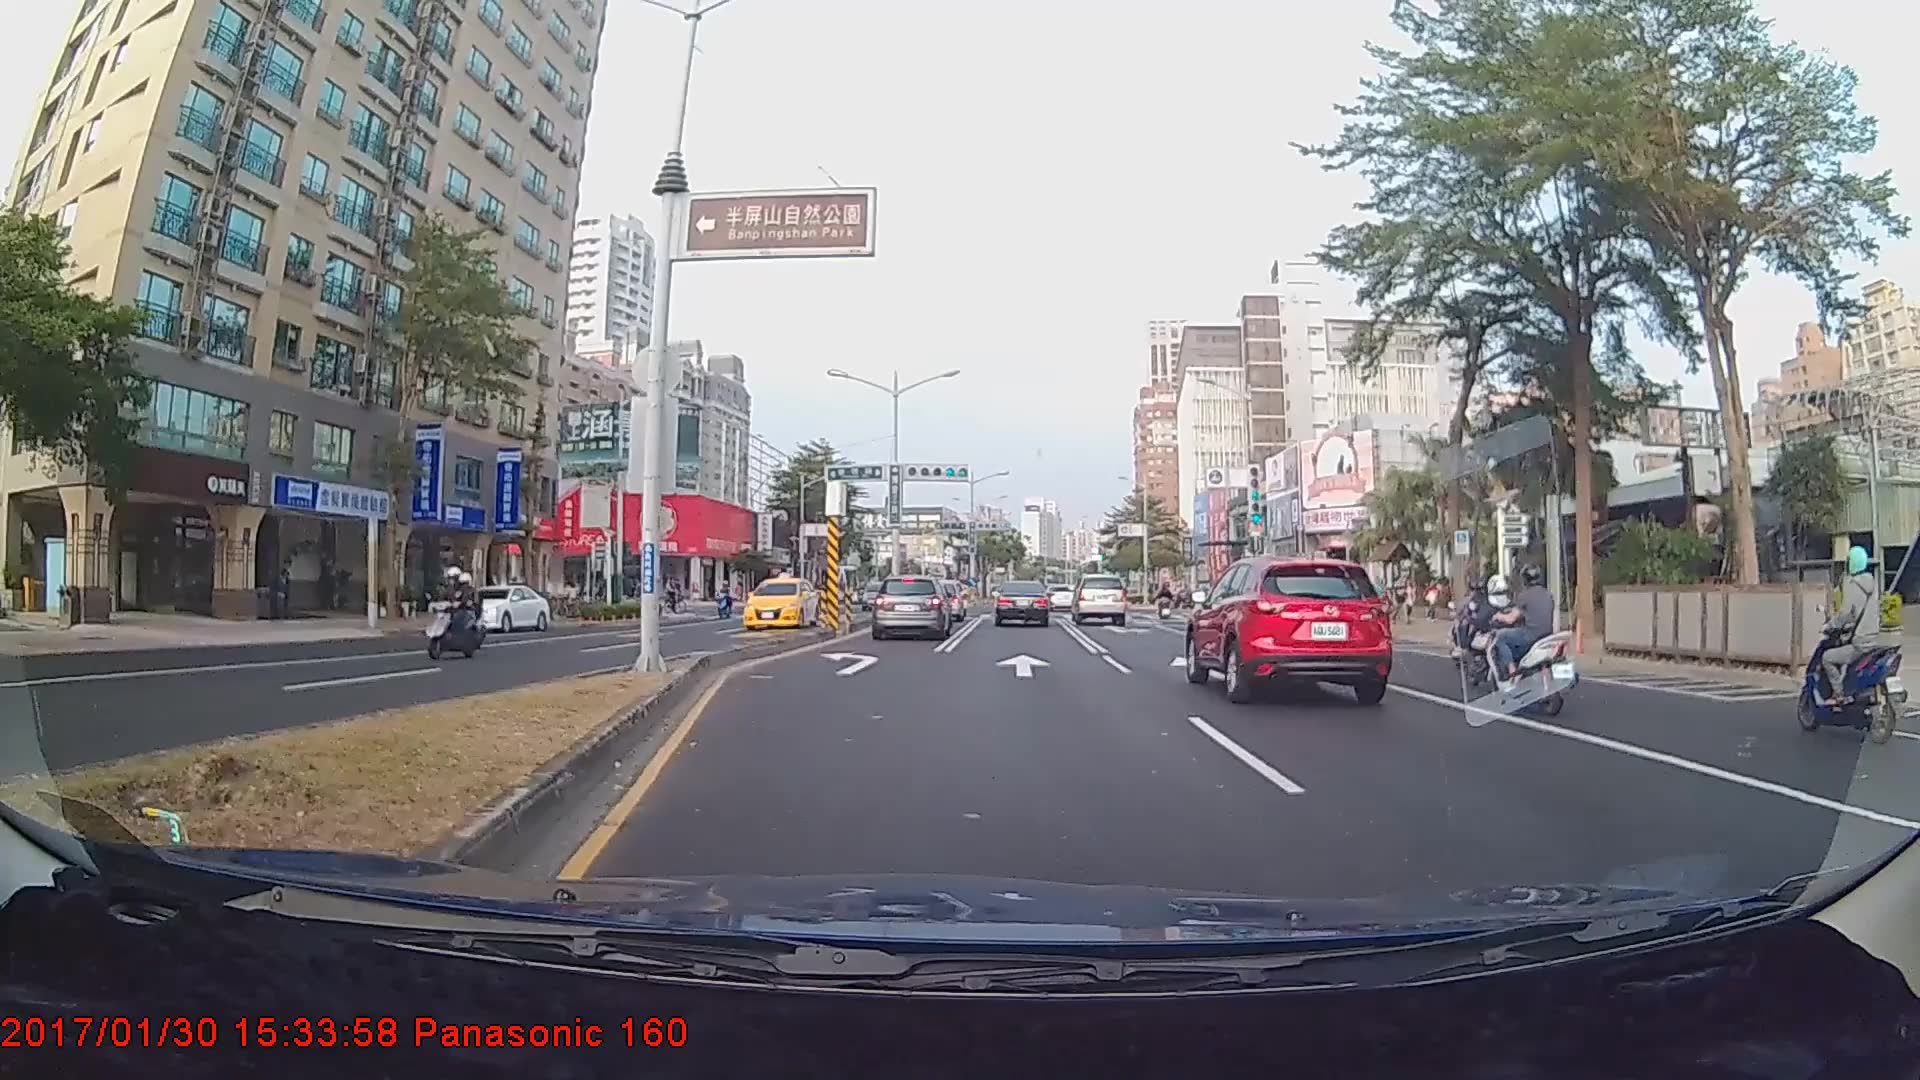rider: (1801, 540, 1913, 748), (1482, 562, 1589, 717), (424, 568, 473, 663), (432, 574, 482, 654)
vehicle: (1188, 552, 1395, 698), (447, 582, 549, 633), (869, 575, 950, 640), (739, 575, 817, 630), (1071, 573, 1127, 626), (992, 578, 1049, 628)
